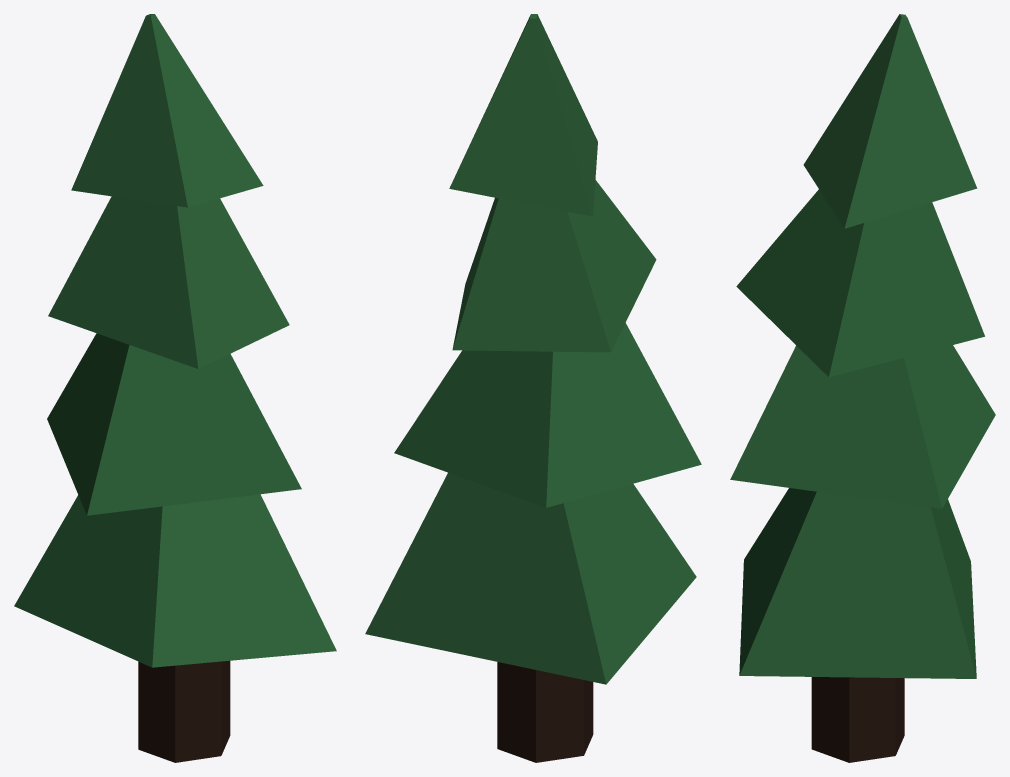
Rendered from tree2.fbx.
3 renders of one model, left to right at view 1: azimuth 30°, elevation 25°; view 2: azimuth 150°, elevation 25°; view 3: azimuth 270°, elevation 25°, orthographic. The views are drawn at different scales.
Visible parts, largest first — view 1: tree2; view 2: tree2; view 3: tree2.
Part boxes in pixels (<box>): tree2: <box>14,14,336,762</box>; tree2: <box>365,14,701,762</box>; tree2: <box>730,14,995,762</box>.
Size of the model in its own units: 129 by 371 by 124.
